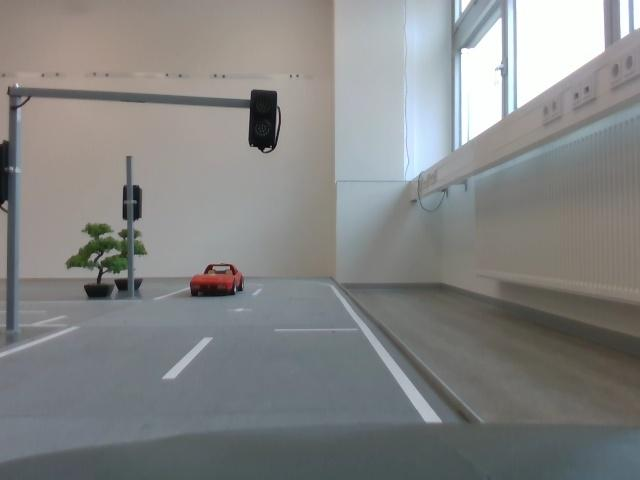car: (191, 259, 245, 298)
potted plant: (67, 220, 122, 299), (110, 223, 144, 296)
traffic light: (251, 89, 279, 155), (2, 136, 17, 210), (123, 184, 145, 222)
